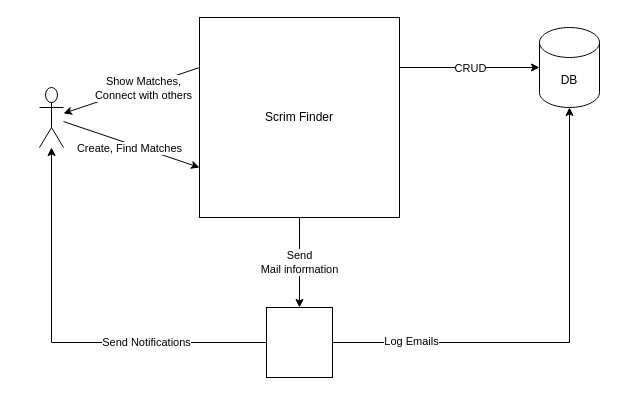
The diagram is 617 pixels wide and 403 high, and some of its shapes have lost their labels. Here are the shapes that lost their labels. From the top down, the centre of each, then its label:
At [51,117]: "Team User 1".
At [299,342]: "Email Service".
